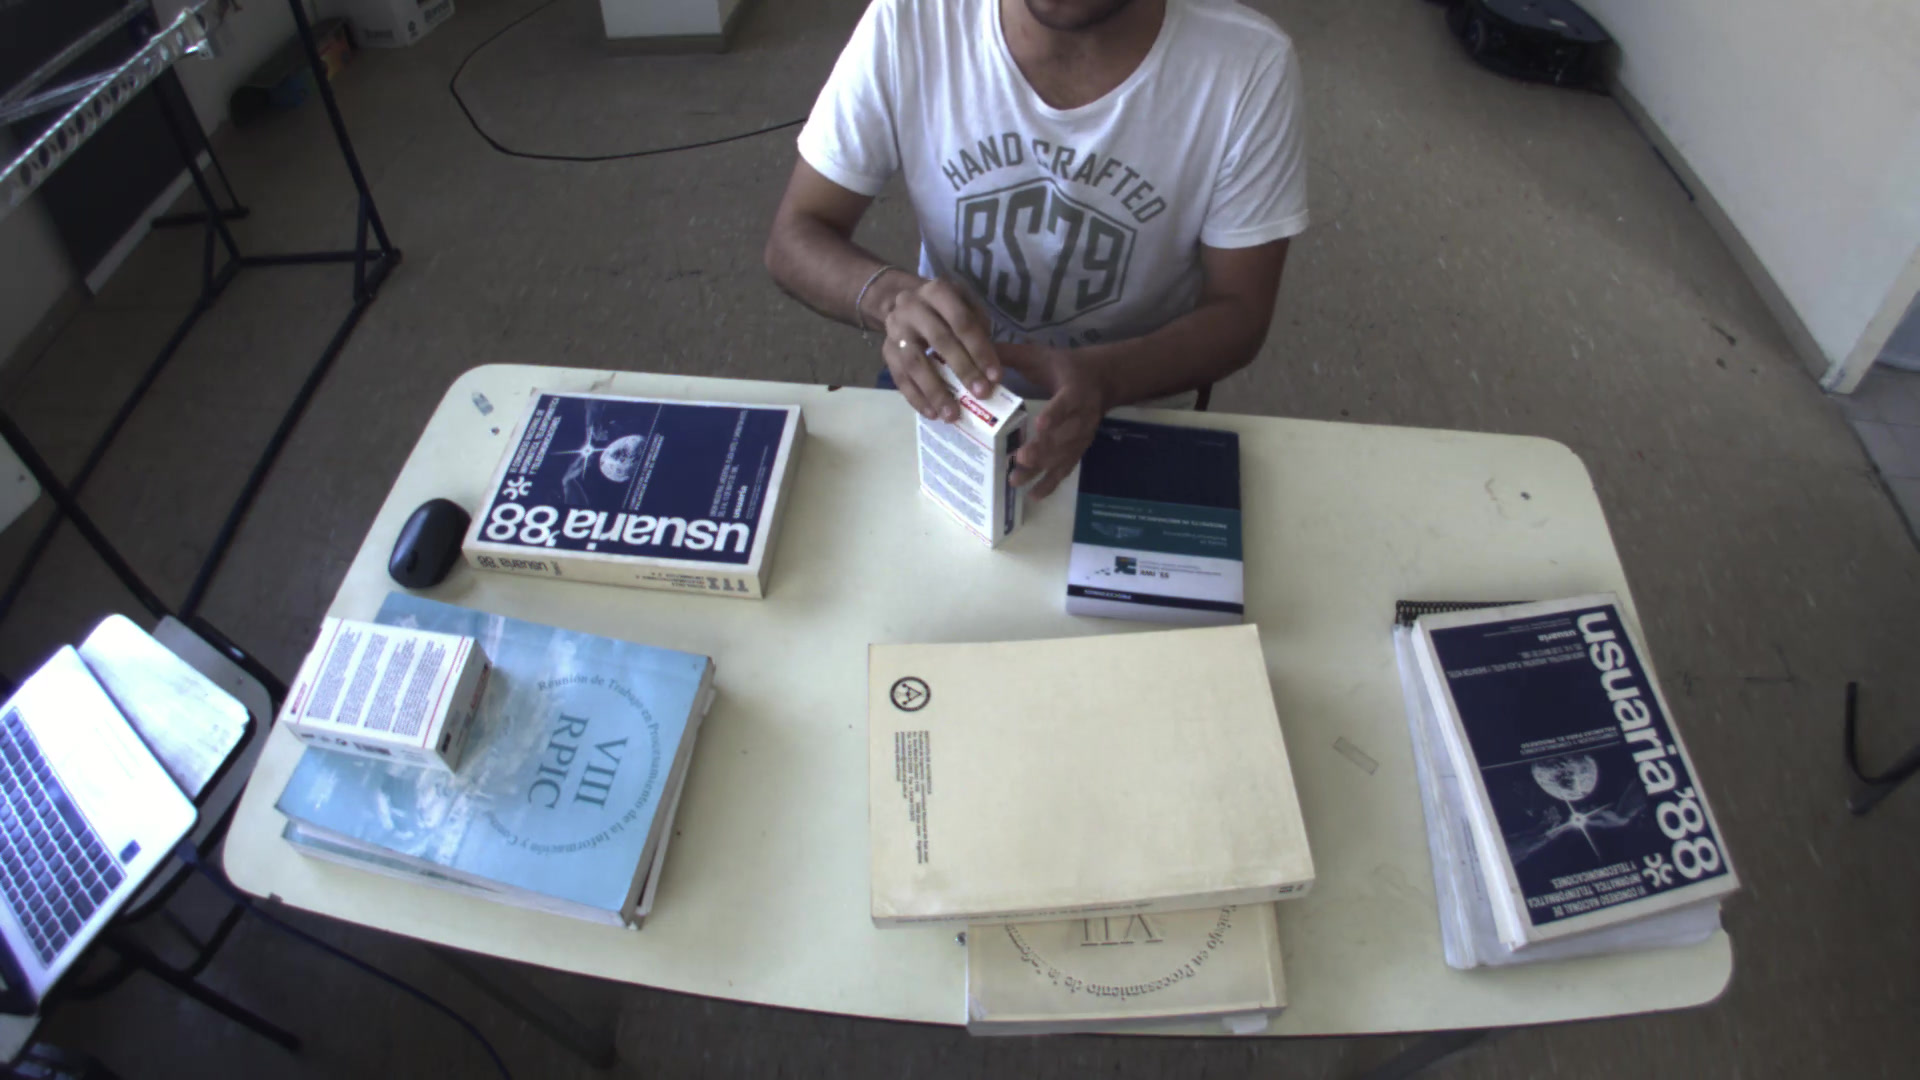hand: (860, 264, 1000, 426), (994, 345, 1124, 501)
